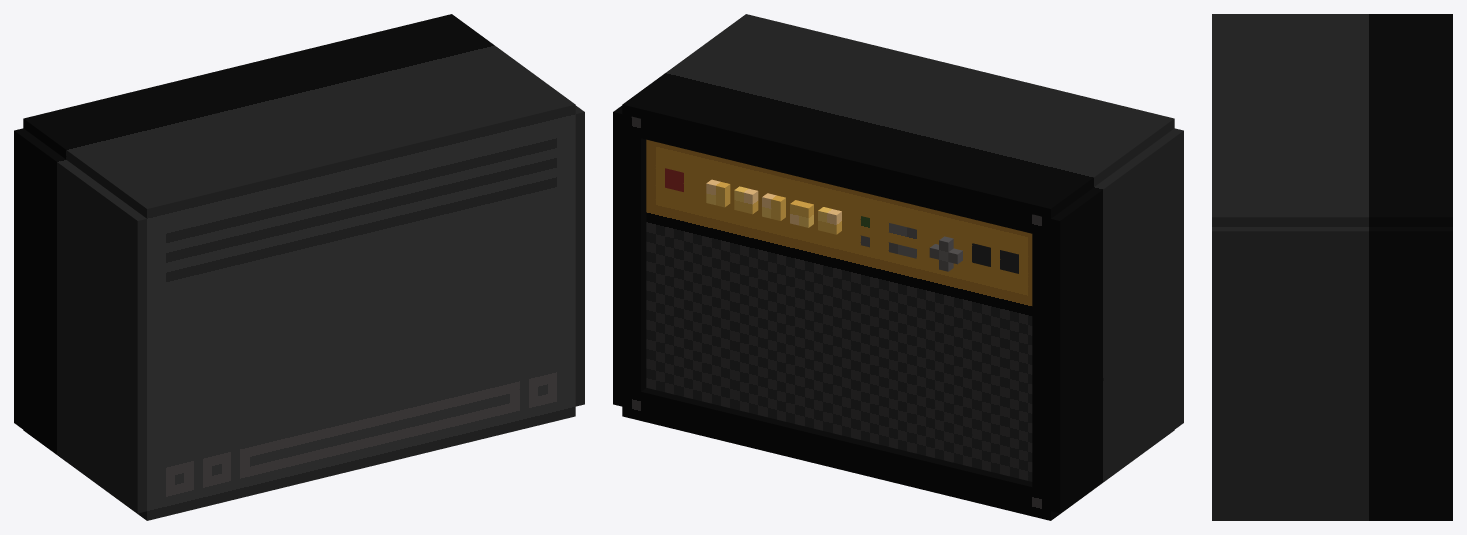
Rendered from amplifier.glb.
3 renders of one model, left to right at view 1: azimuth 30°, elevation 25°; view 2: azimuth 150°, elevation 25°; view 3: azimuth 270°, elevation 25°, orthographic. The views are drawn at different scales.
Visible parts, largest first — view 1: Amplifier-Local; view 2: Amplifier-Local; view 3: Amplifier-Local.
Part boxes in pixels (<box>): Amplifier-Local: <box>14,14,584,520</box>; Amplifier-Local: <box>613,14,1183,520</box>; Amplifier-Local: <box>1212,14,1452,520</box>.
Size of what is drawn, in the model's own units: 2.4 by 1.6 by 1.15.
1 material, 1 textured.
